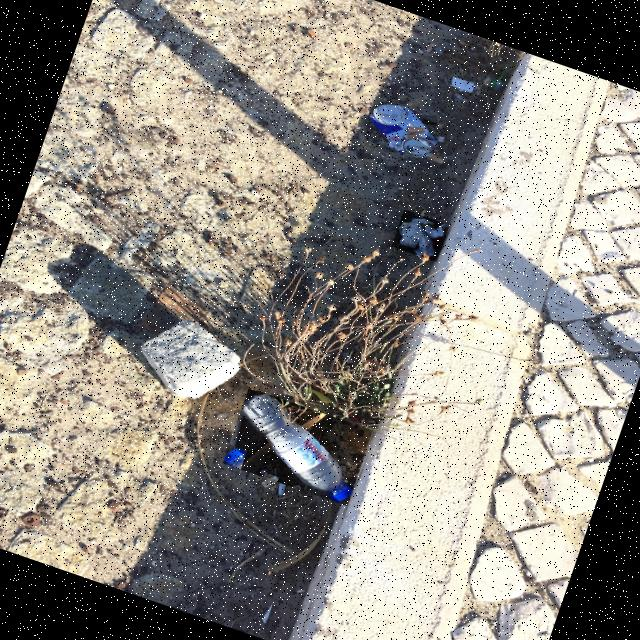Cigarette: (261, 475, 277, 488), (452, 92, 468, 104), (427, 154, 442, 164), (458, 40, 472, 50), (406, 129, 427, 134), (277, 483, 285, 495), (426, 44, 434, 53)
Clear plastic bottle: (242, 395, 352, 502)
Drink can: (369, 104, 436, 158)
Plastic bottle cap: (223, 448, 246, 464)
Pop tab: (421, 120, 436, 127)
Tissues: (398, 219, 448, 258)
Unlabeled litter: (450, 78, 474, 92)
